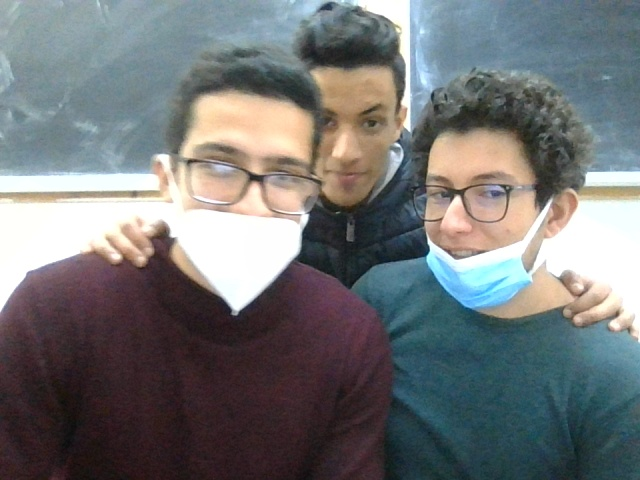mask_weared_incorrect: (414, 71, 584, 313), (151, 69, 314, 313)
without_mask: (304, 9, 412, 211)
